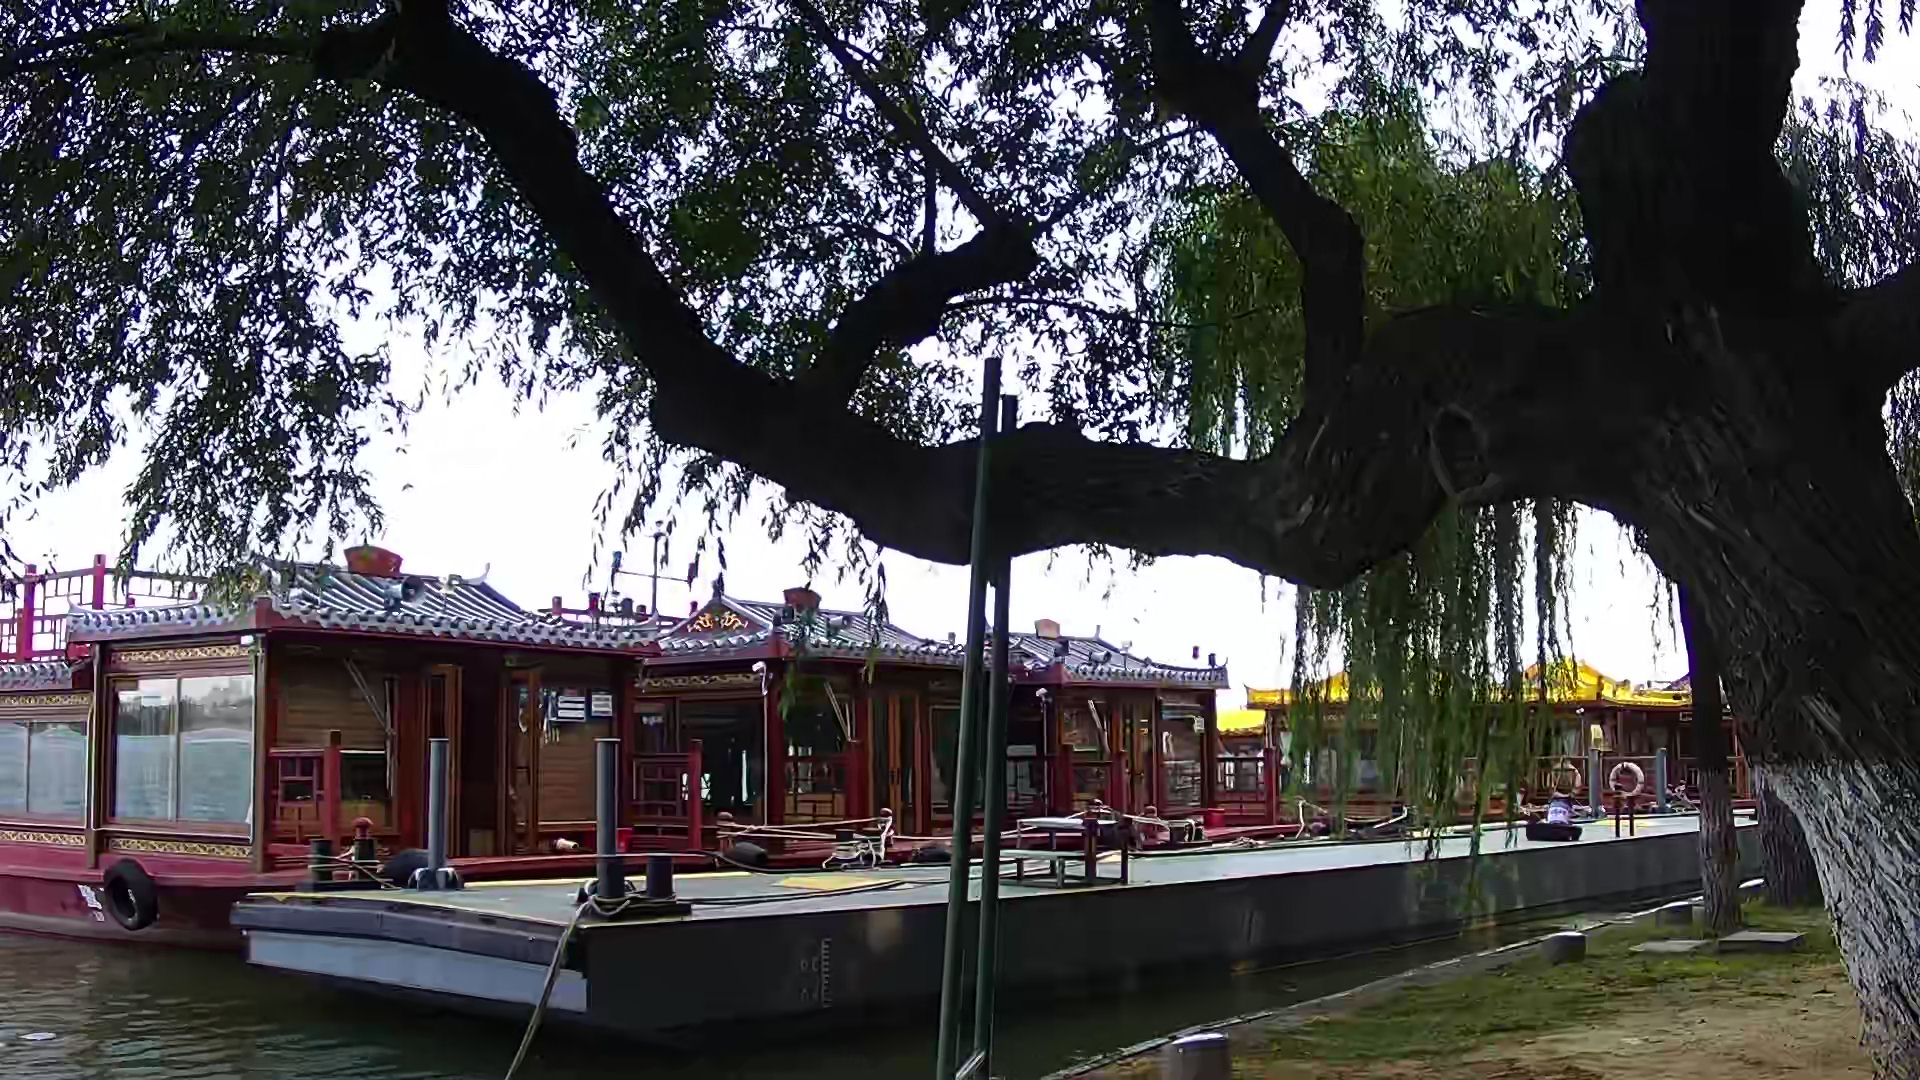boat: (1, 538, 638, 939), (550, 576, 961, 857), (936, 624, 1246, 851), (1254, 642, 1523, 829), (1524, 644, 1705, 833)
harbor: (223, 803, 1779, 1040)
